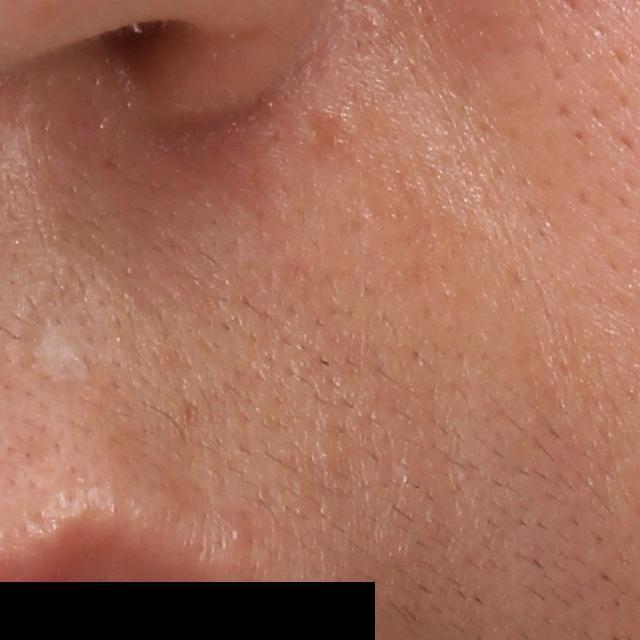comedo: (222, 518, 256, 551)
hypertrophic_scar: (35, 321, 88, 379)
